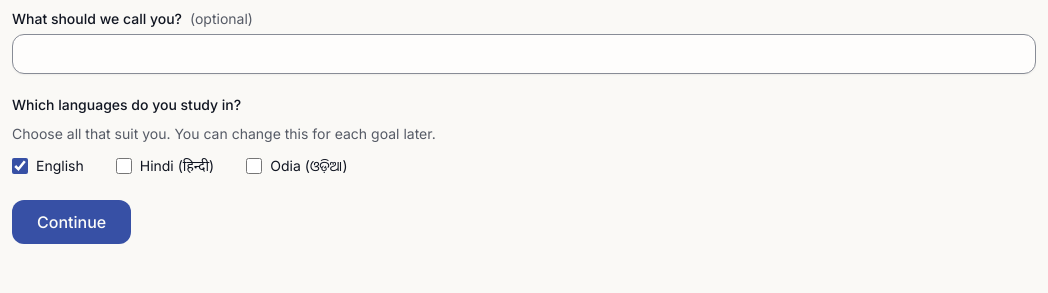
Scenario: step 1: about you › shows what is wrong and keeps the answers
The image size is (1048, 293).
Type "Ada" into the field labelled "What should we call you? (optional)" at (524, 54), box [12, 34, 1036, 74]
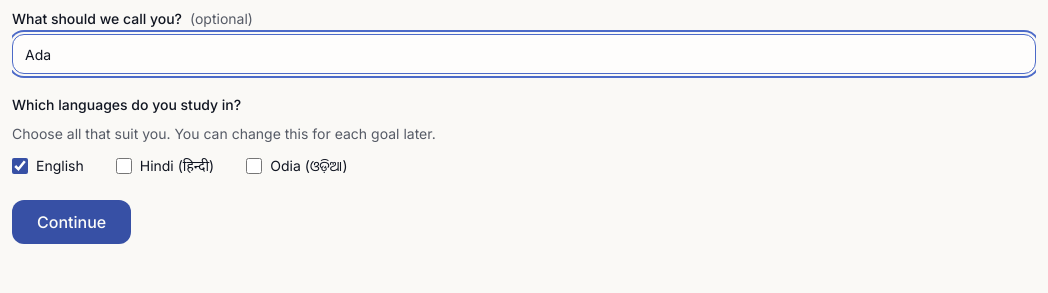
Click the checkbox labelled "English" at (20, 166), box [12, 158, 28, 174]
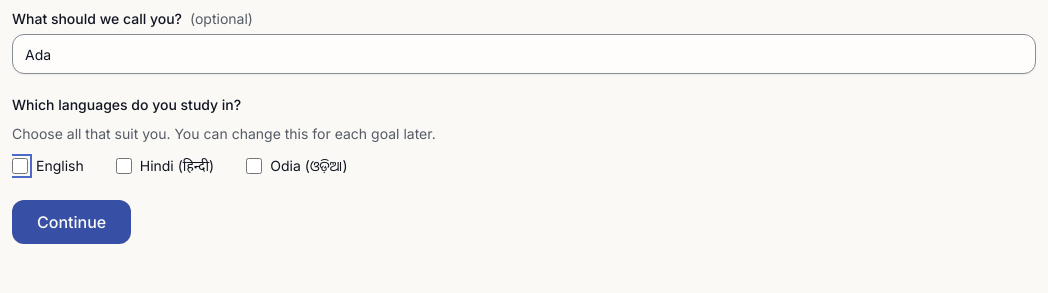
Click the button "Continue" at (72, 222), box [12, 200, 131, 244]
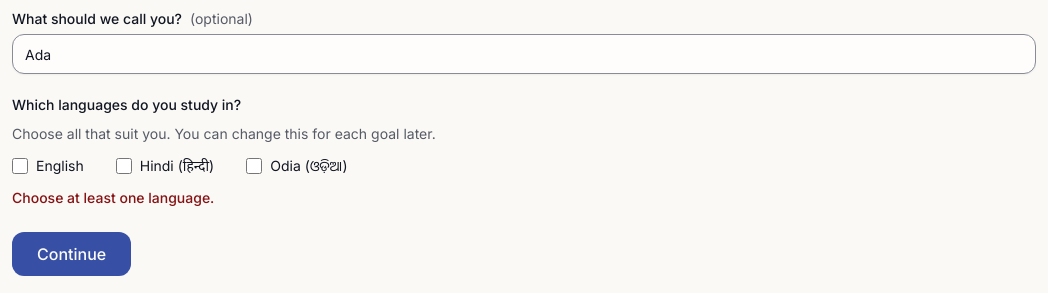
Now the text "Choose at least one language." is shown, box [12, 189, 214, 206]
